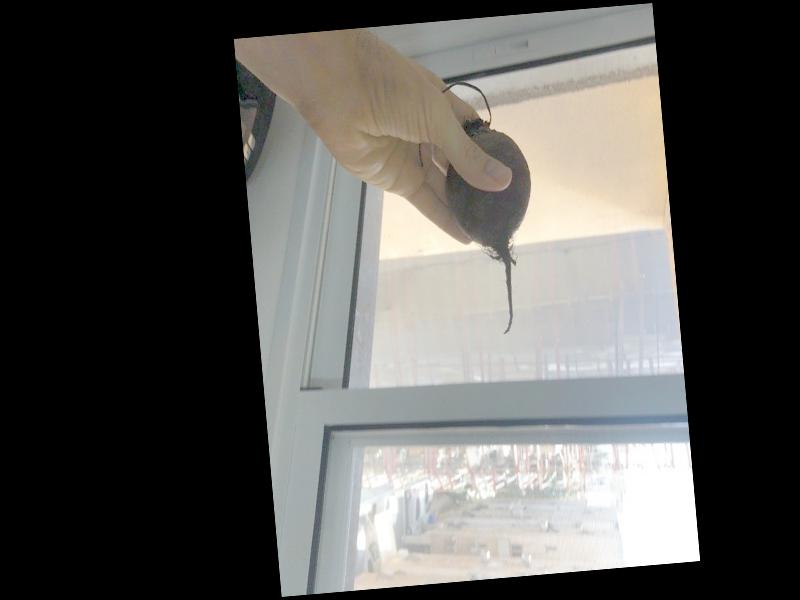Beet: (412, 76, 543, 340)
